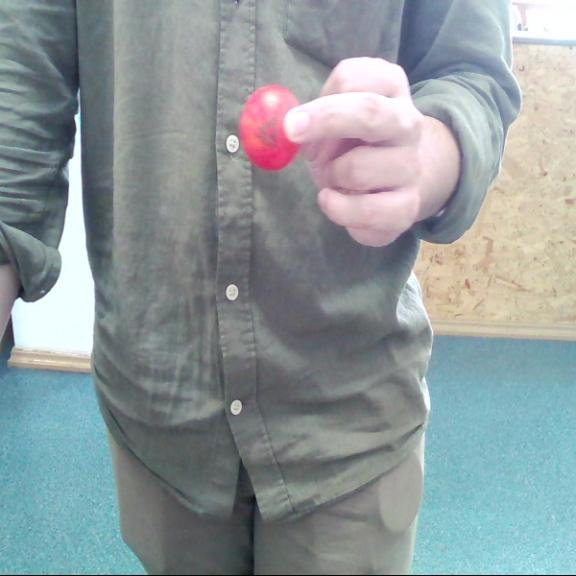ball: (242, 86, 302, 166)
